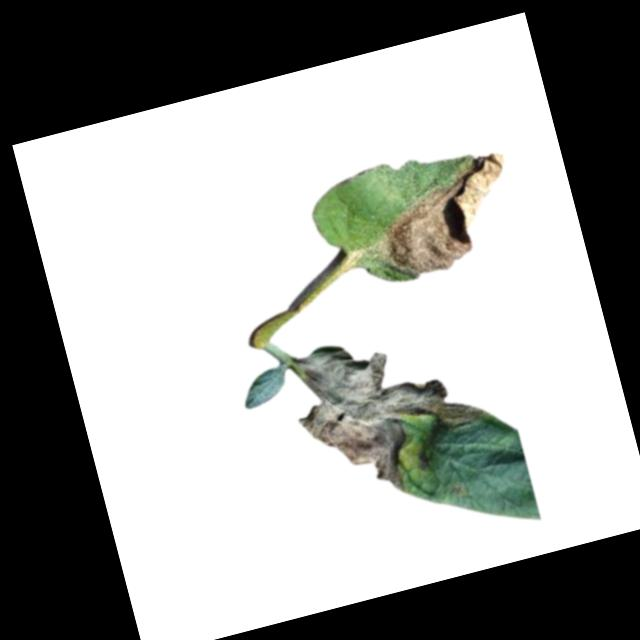Late_blight: (282, 311, 501, 513), (349, 151, 529, 290)
